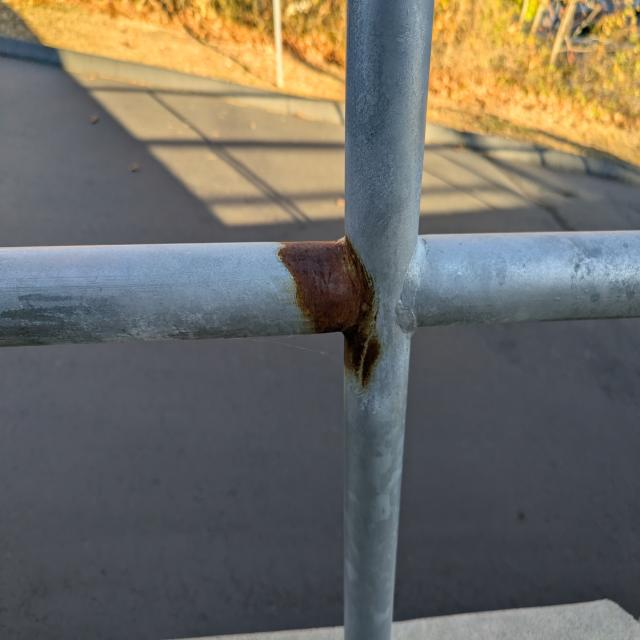Crevice Corrosion: (278, 236, 382, 387)
